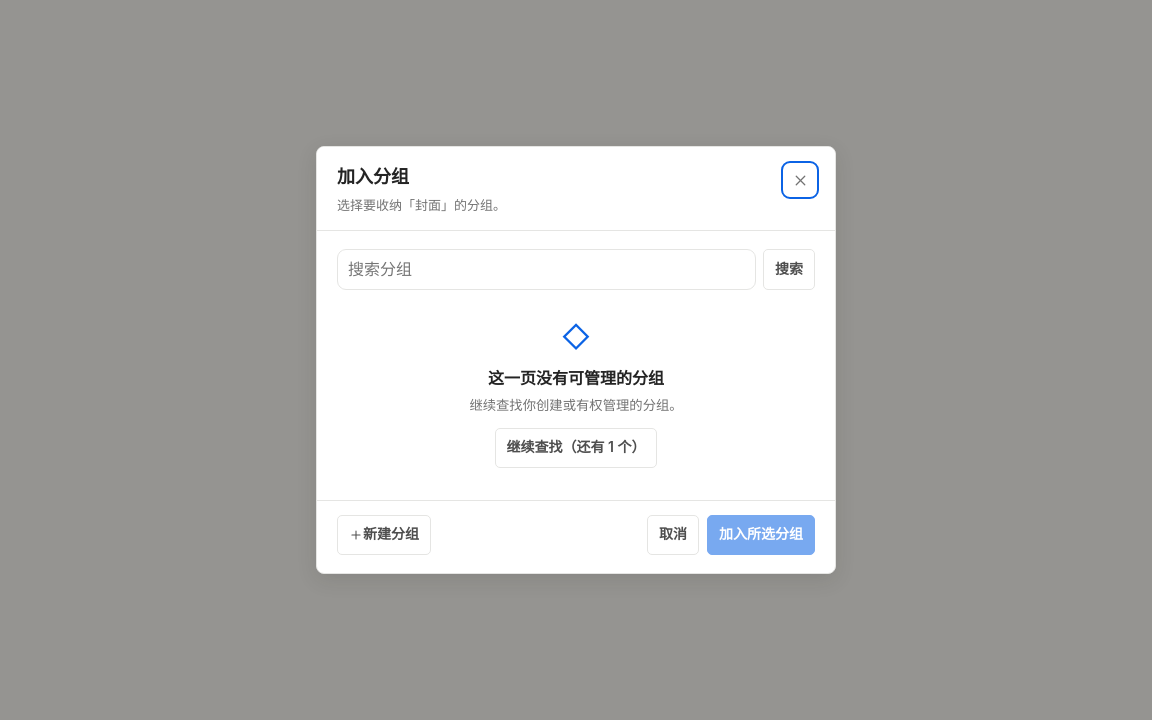
Test: CollectionPickerModal › continues paging when the first team page has no manageable groups
The image size is (1152, 720).
Click the button "继续查找（还有 1 个）".
click(576, 448)  # box [494,428,658,468]
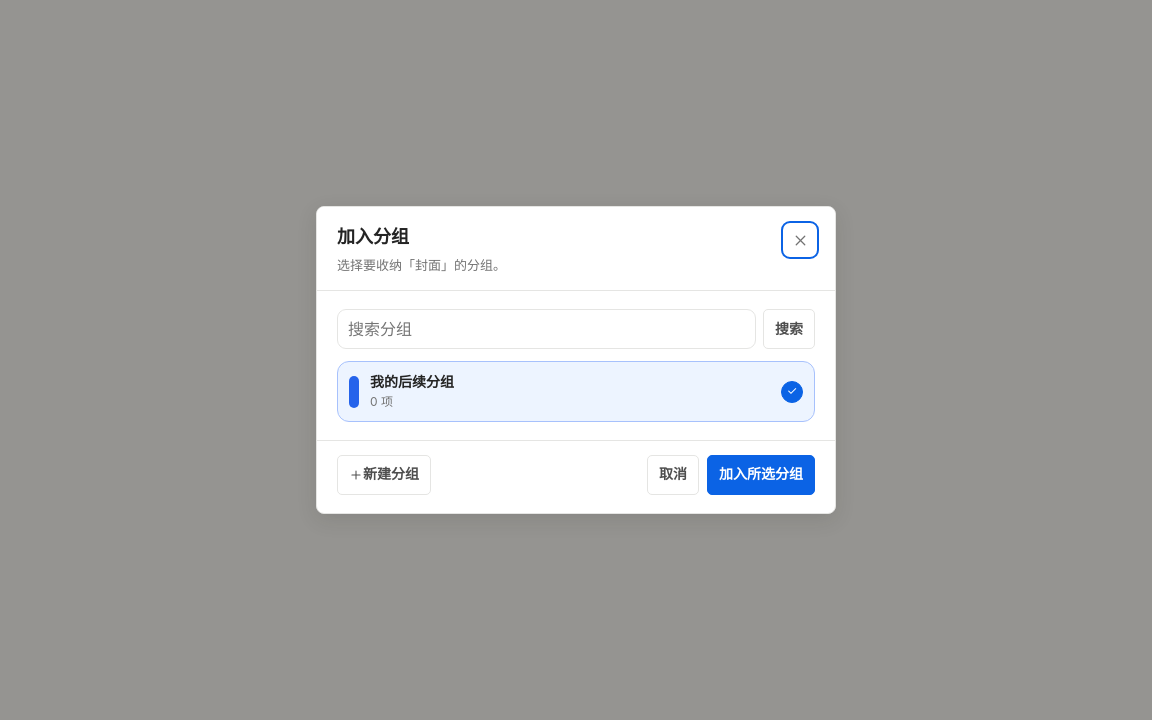
Check: the text "我的后续分组" is shown, box [370,374,454,390]
